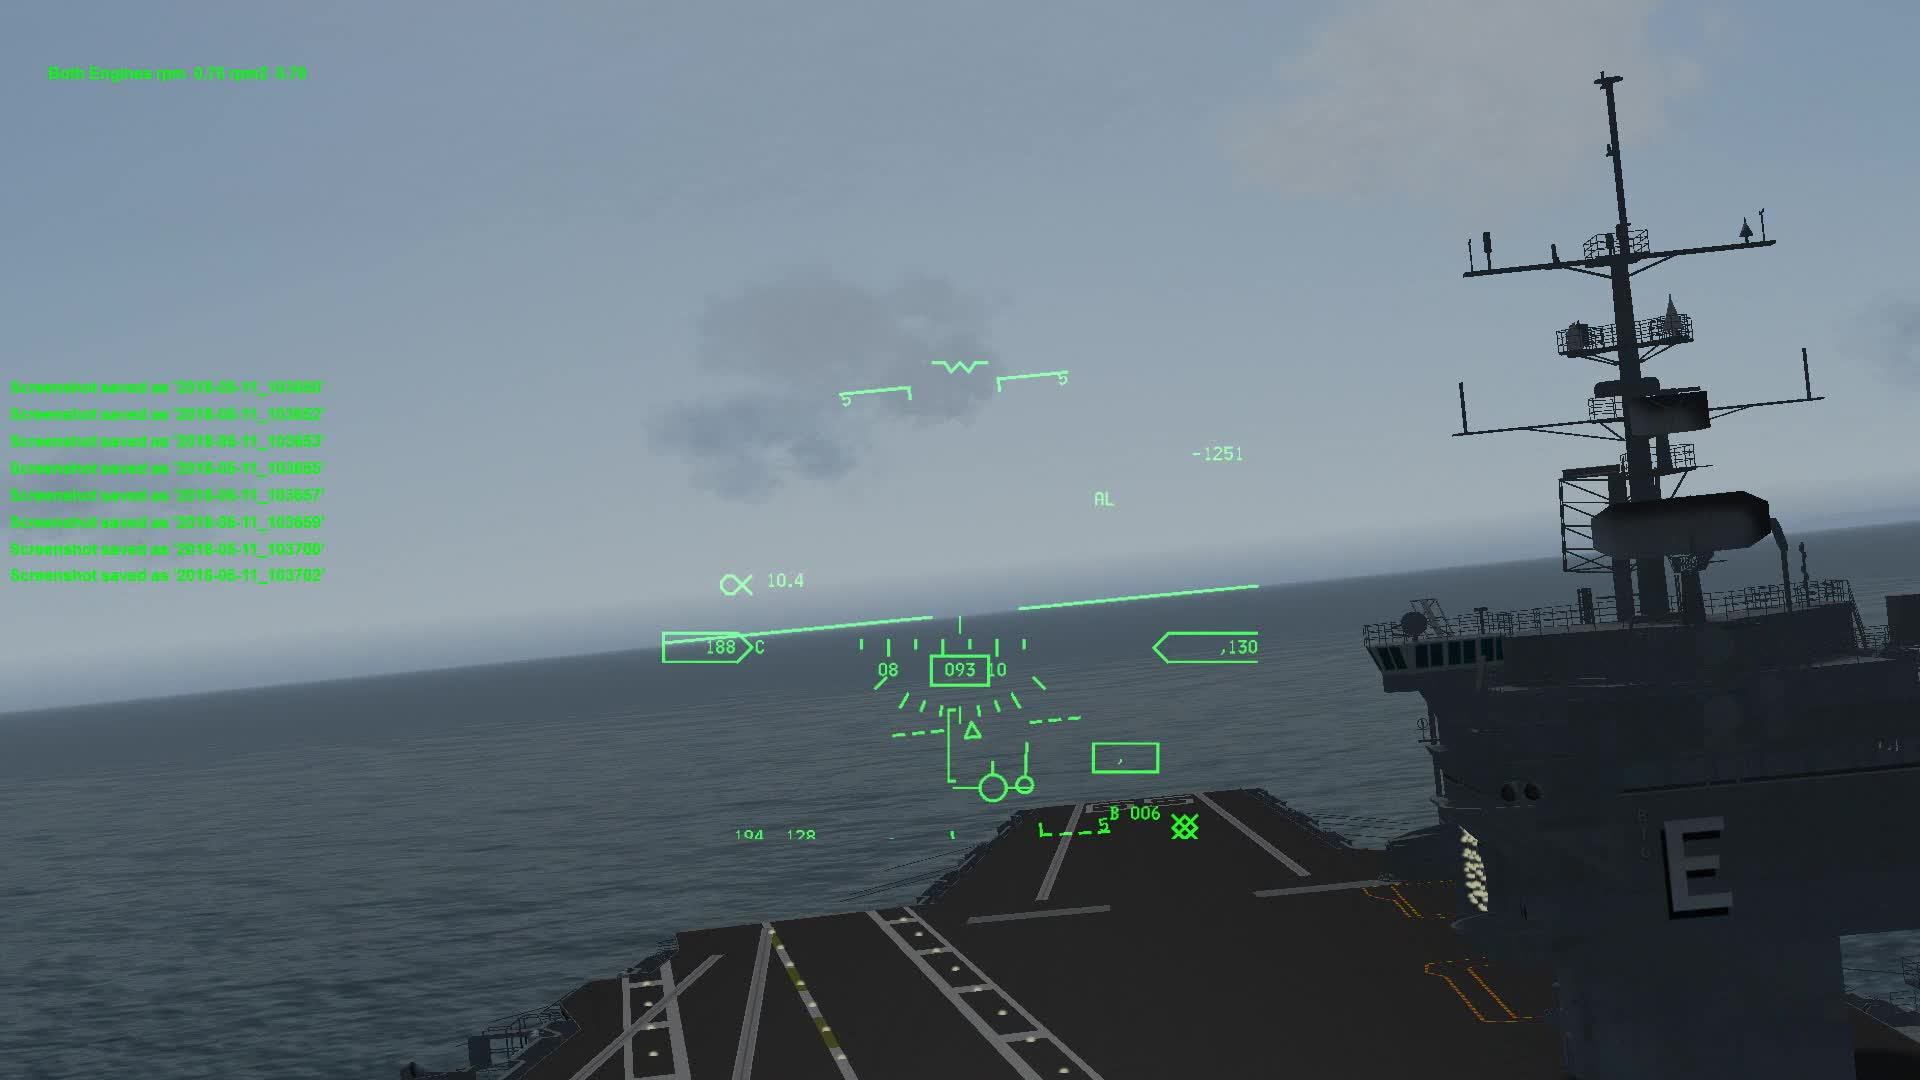speed vector: (957, 746, 1043, 808)
